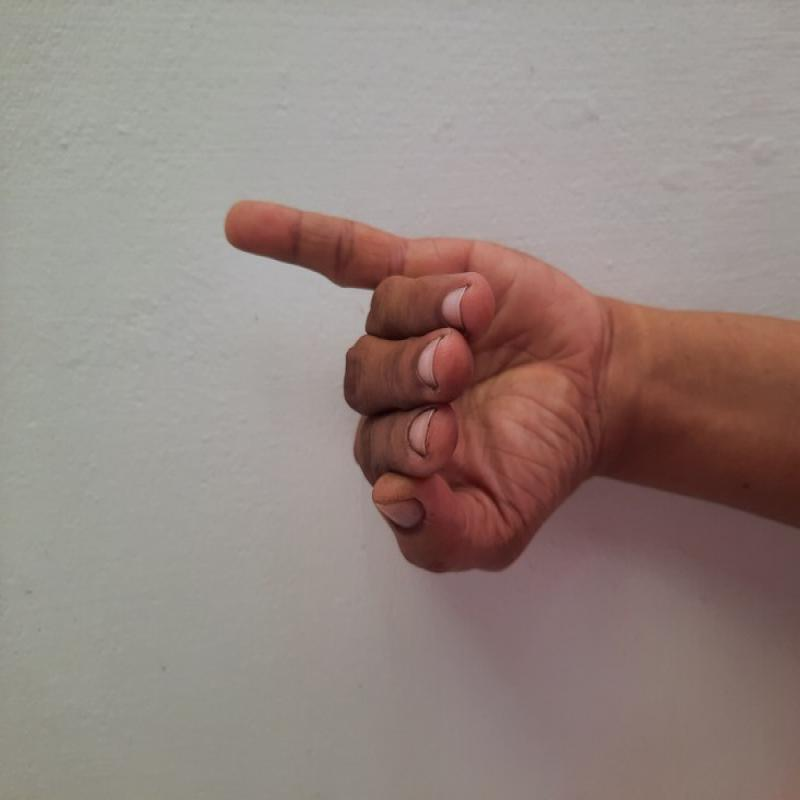Kartharee Mukham: (208, 186, 619, 589)
